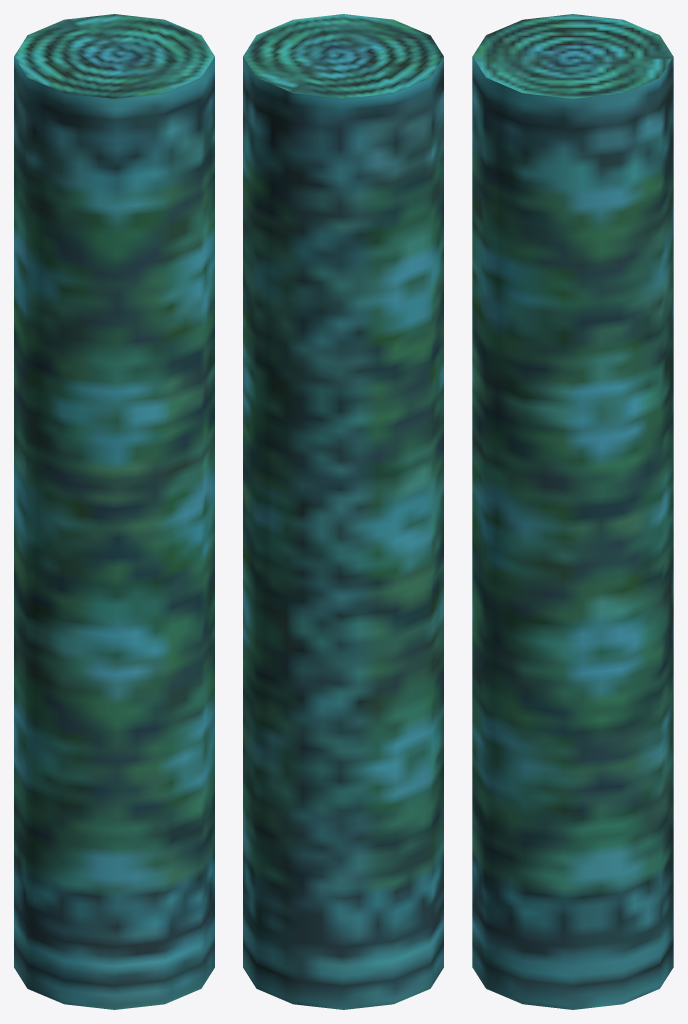
File: CarpetRoll01.glb
The picture shows the model from 3 angles, left to right: view 1: azimuth 30°, elevation 25°; view 2: azimuth 150°, elevation 25°; view 3: azimuth 270°, elevation 25°; orthographic projection.
Parts seen in each view (by area): view 1: CARPETROLL01; view 2: CARPETROLL01; view 3: CARPETROLL01.
Boxes of the visible parts, x1=… form: CARPETROLL01: x1=14, y1=14, x2=214, y2=1009; CARPETROLL01: x1=243, y1=14, x2=443, y2=1009; CARPETROLL01: x1=472, y1=14, x2=673, y2=1009.
Bounding box in the file's own units: 0.4 × 2 × 0.4.
1 material, 1 textured.
